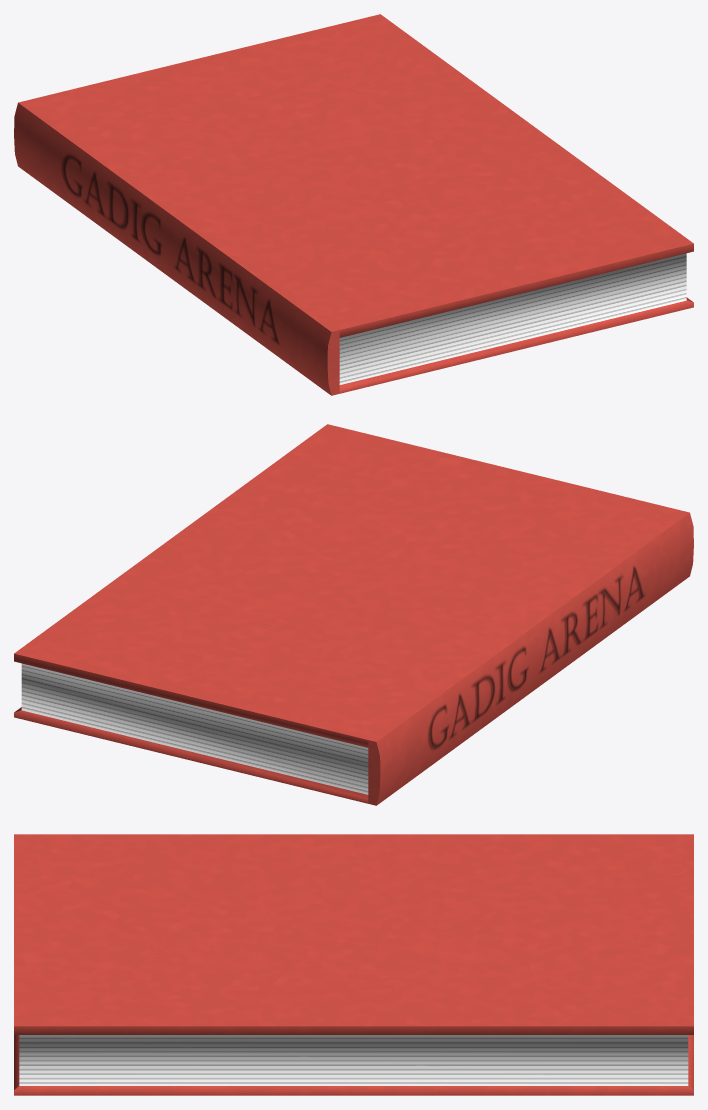
Rendered from RedBook.FBX.
3 views of the same model, one above another, from view 1: azimuth 30°, elevation 25°; view 2: azimuth 150°, elevation 25°; view 3: azimuth 270°, elevation 25° (orthographic). The views are drawn at different scales.
Parts seen in each view (by area): view 1: Box001; view 2: Box001; view 3: Box001.
Boxes of the visible parts, left/top/right/bottom form: Box001: left=14, top=14, right=693, bottom=395; Box001: left=14, top=424, right=693, bottom=805; Box001: left=14, top=834, right=693, bottom=1095.
Bounding box in the file's own units: 20.17 × 3.36 × 29.89.
